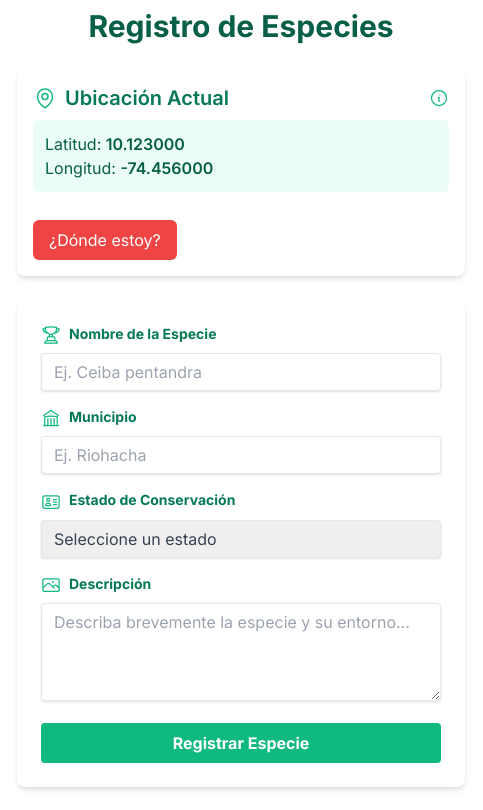
it: Formulario de Registro de Especies › muestra una pista cuando se hace clic en el botón de información
Expected: the text "Haga clic en \"Obtener Ubicación\"" is not shown
// Simula un clic en el botón de información
Click the button named "Mostrar información": (439, 98) [429,88,449,108]
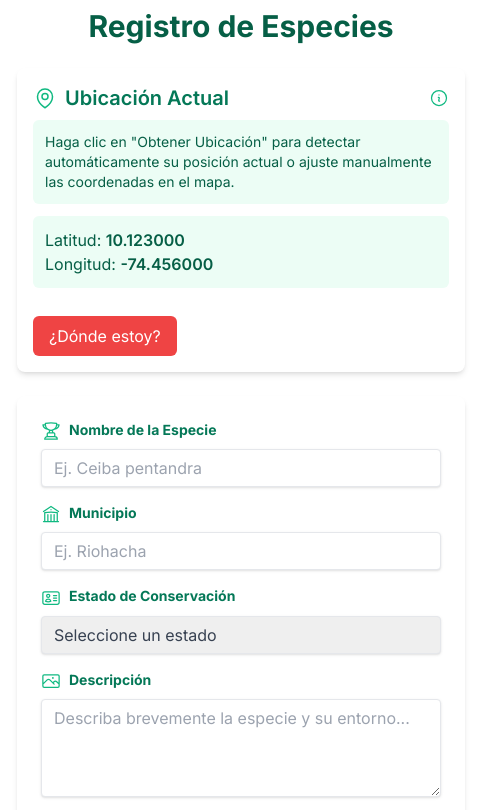
Expected: the text "Haga clic en \"Obtener Ubicación\"" is shown, [45,133,432,190]
